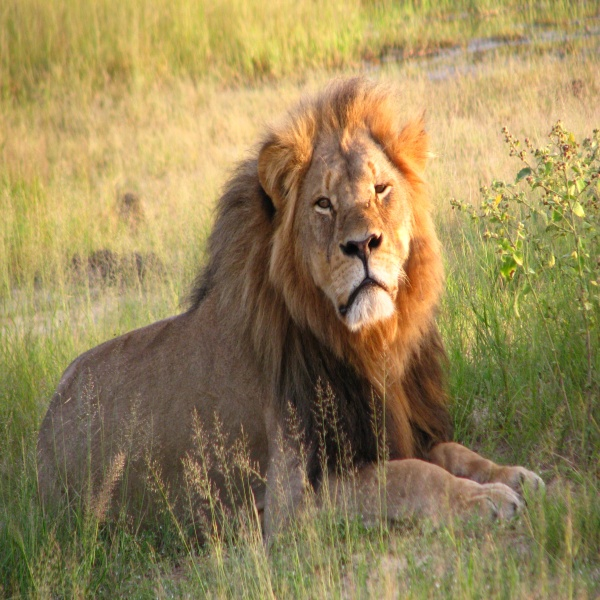Lion: (31, 72, 547, 545)
